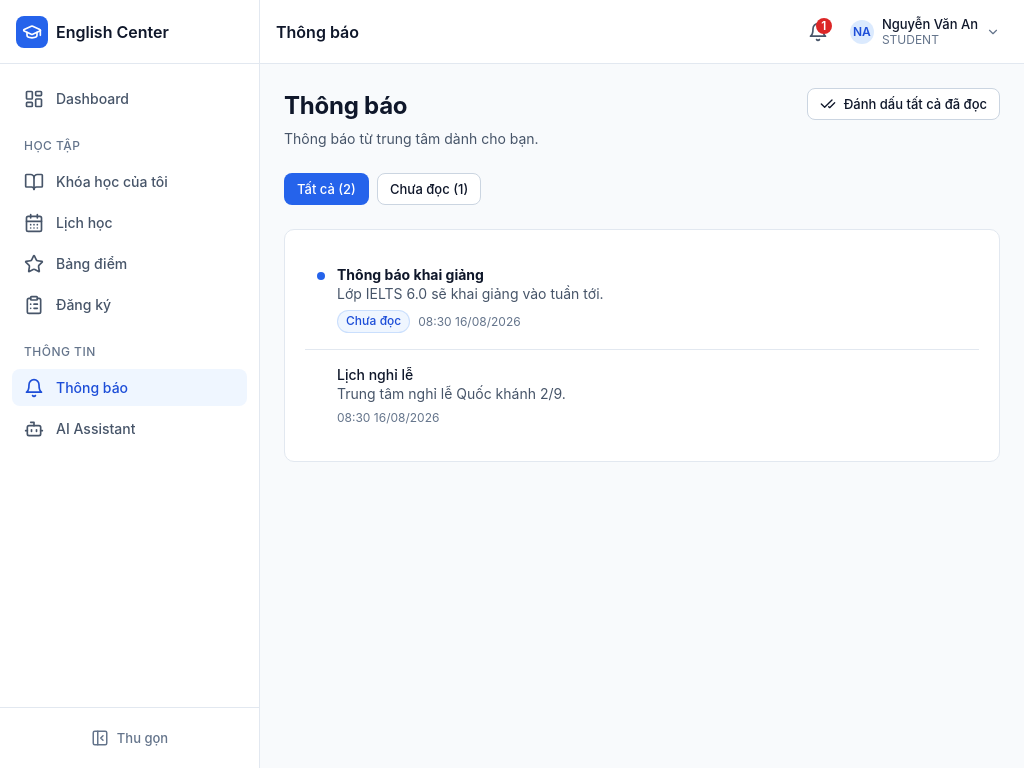
Test: notifications page › opens the detail modal for a read notification without marking it again
The width and height of the screenshot is (1024, 768).
Click the text "Lịch nghỉ lễ".
click(375, 374)  # box top-left (337, 366), bottom-right (413, 383)
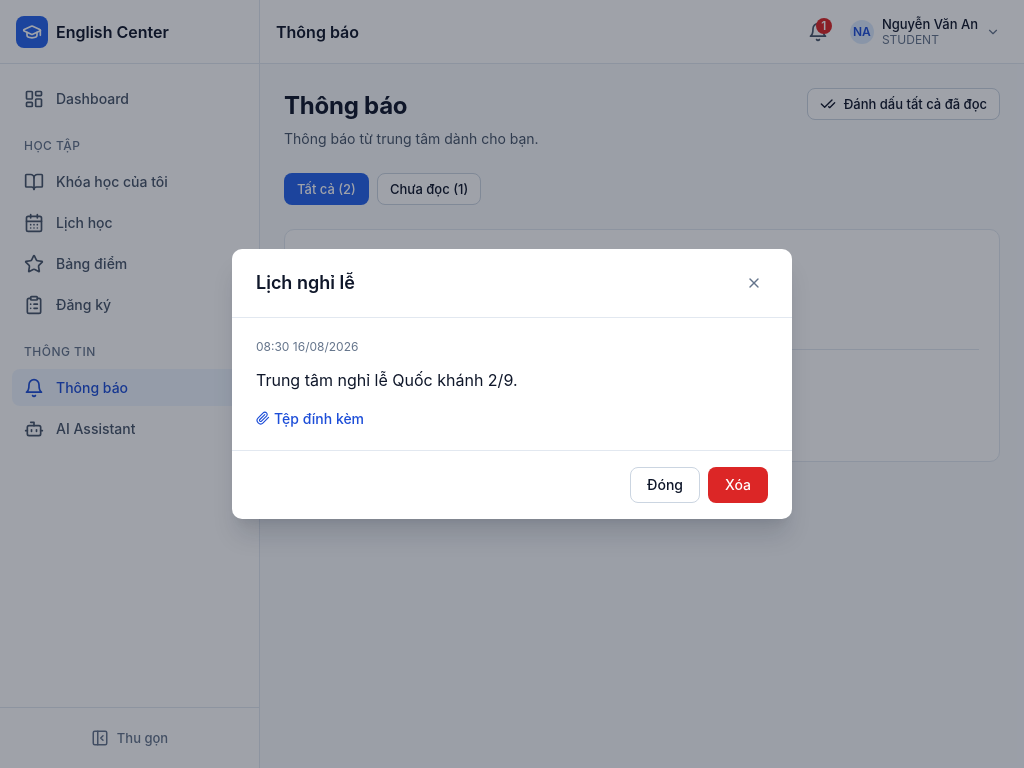
Now the text "Trung tâm nghỉ lễ Quốc khánh 2/9." is shown, box top-left (256, 370), bottom-right (518, 390)
